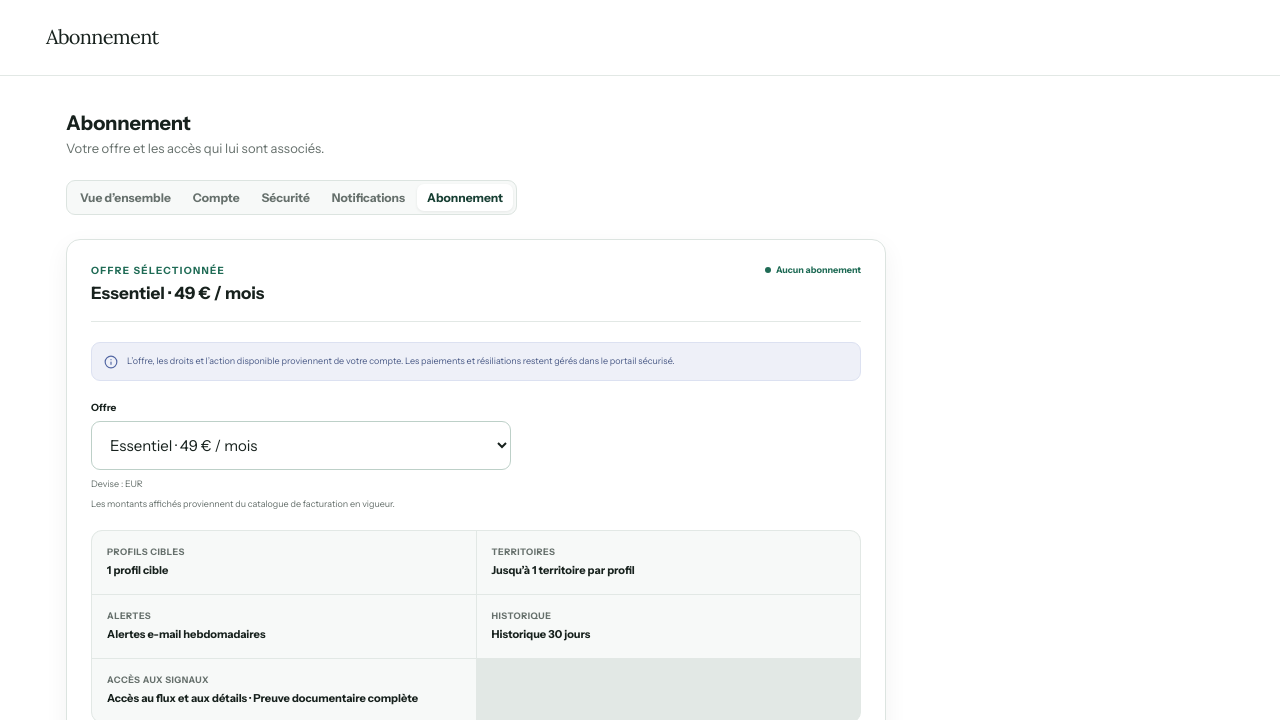
Test case: vérité du packaging › ne change pas les prix, qui viennent toujours du serveur
The width and height of the screenshot is (1280, 720).
Select "Pro · 99 € / mois · Recommandé" in the dropdown labelled "Offre": (301, 445) [91, 421, 511, 470]
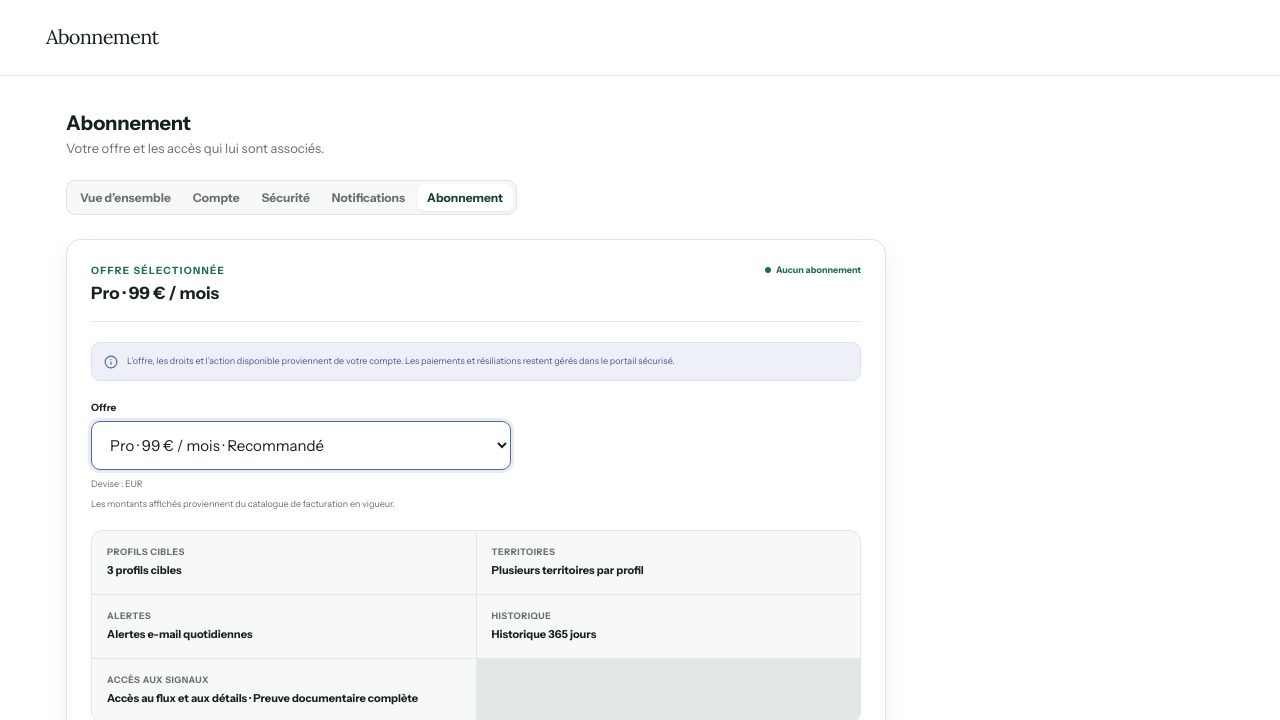
Check: the text "99" is shown, box [91, 283, 219, 303]
